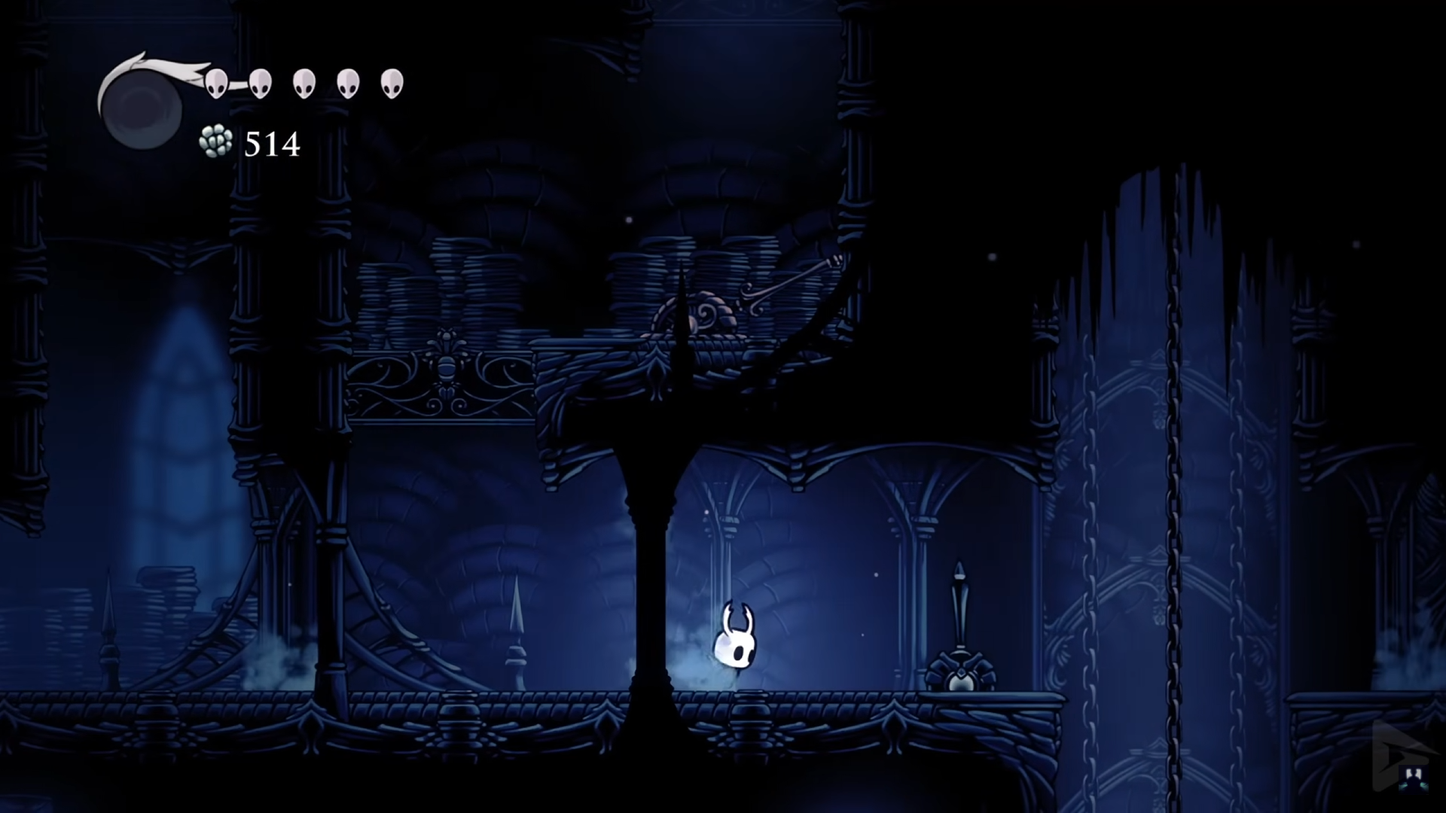HK: (706, 600, 760, 699)
